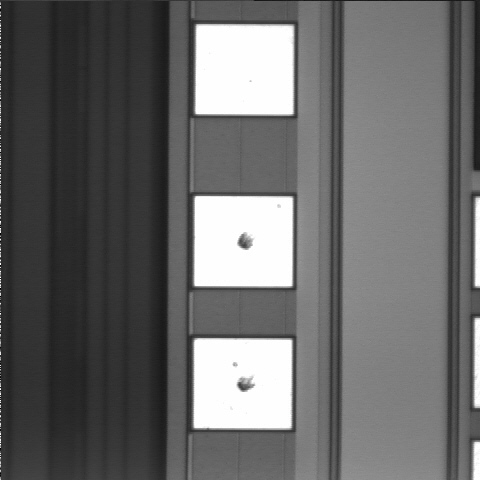pad: (195, 24, 294, 115), (194, 338, 292, 429), (194, 196, 293, 286)
